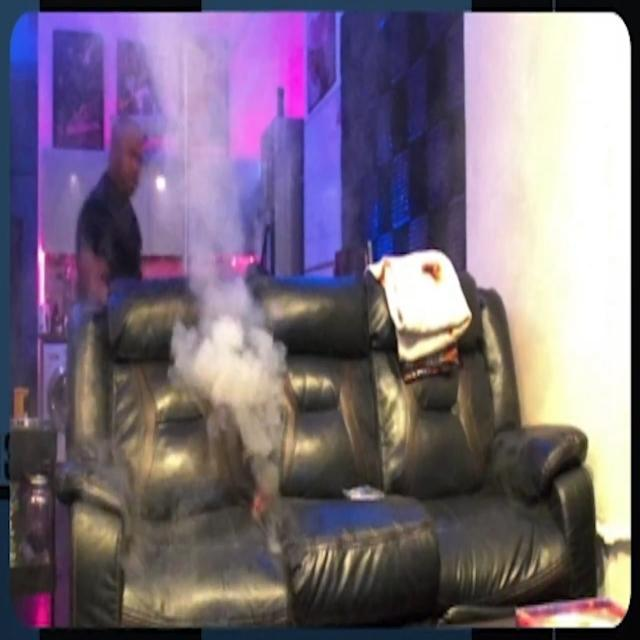Smoke: (185, 303, 286, 477)
